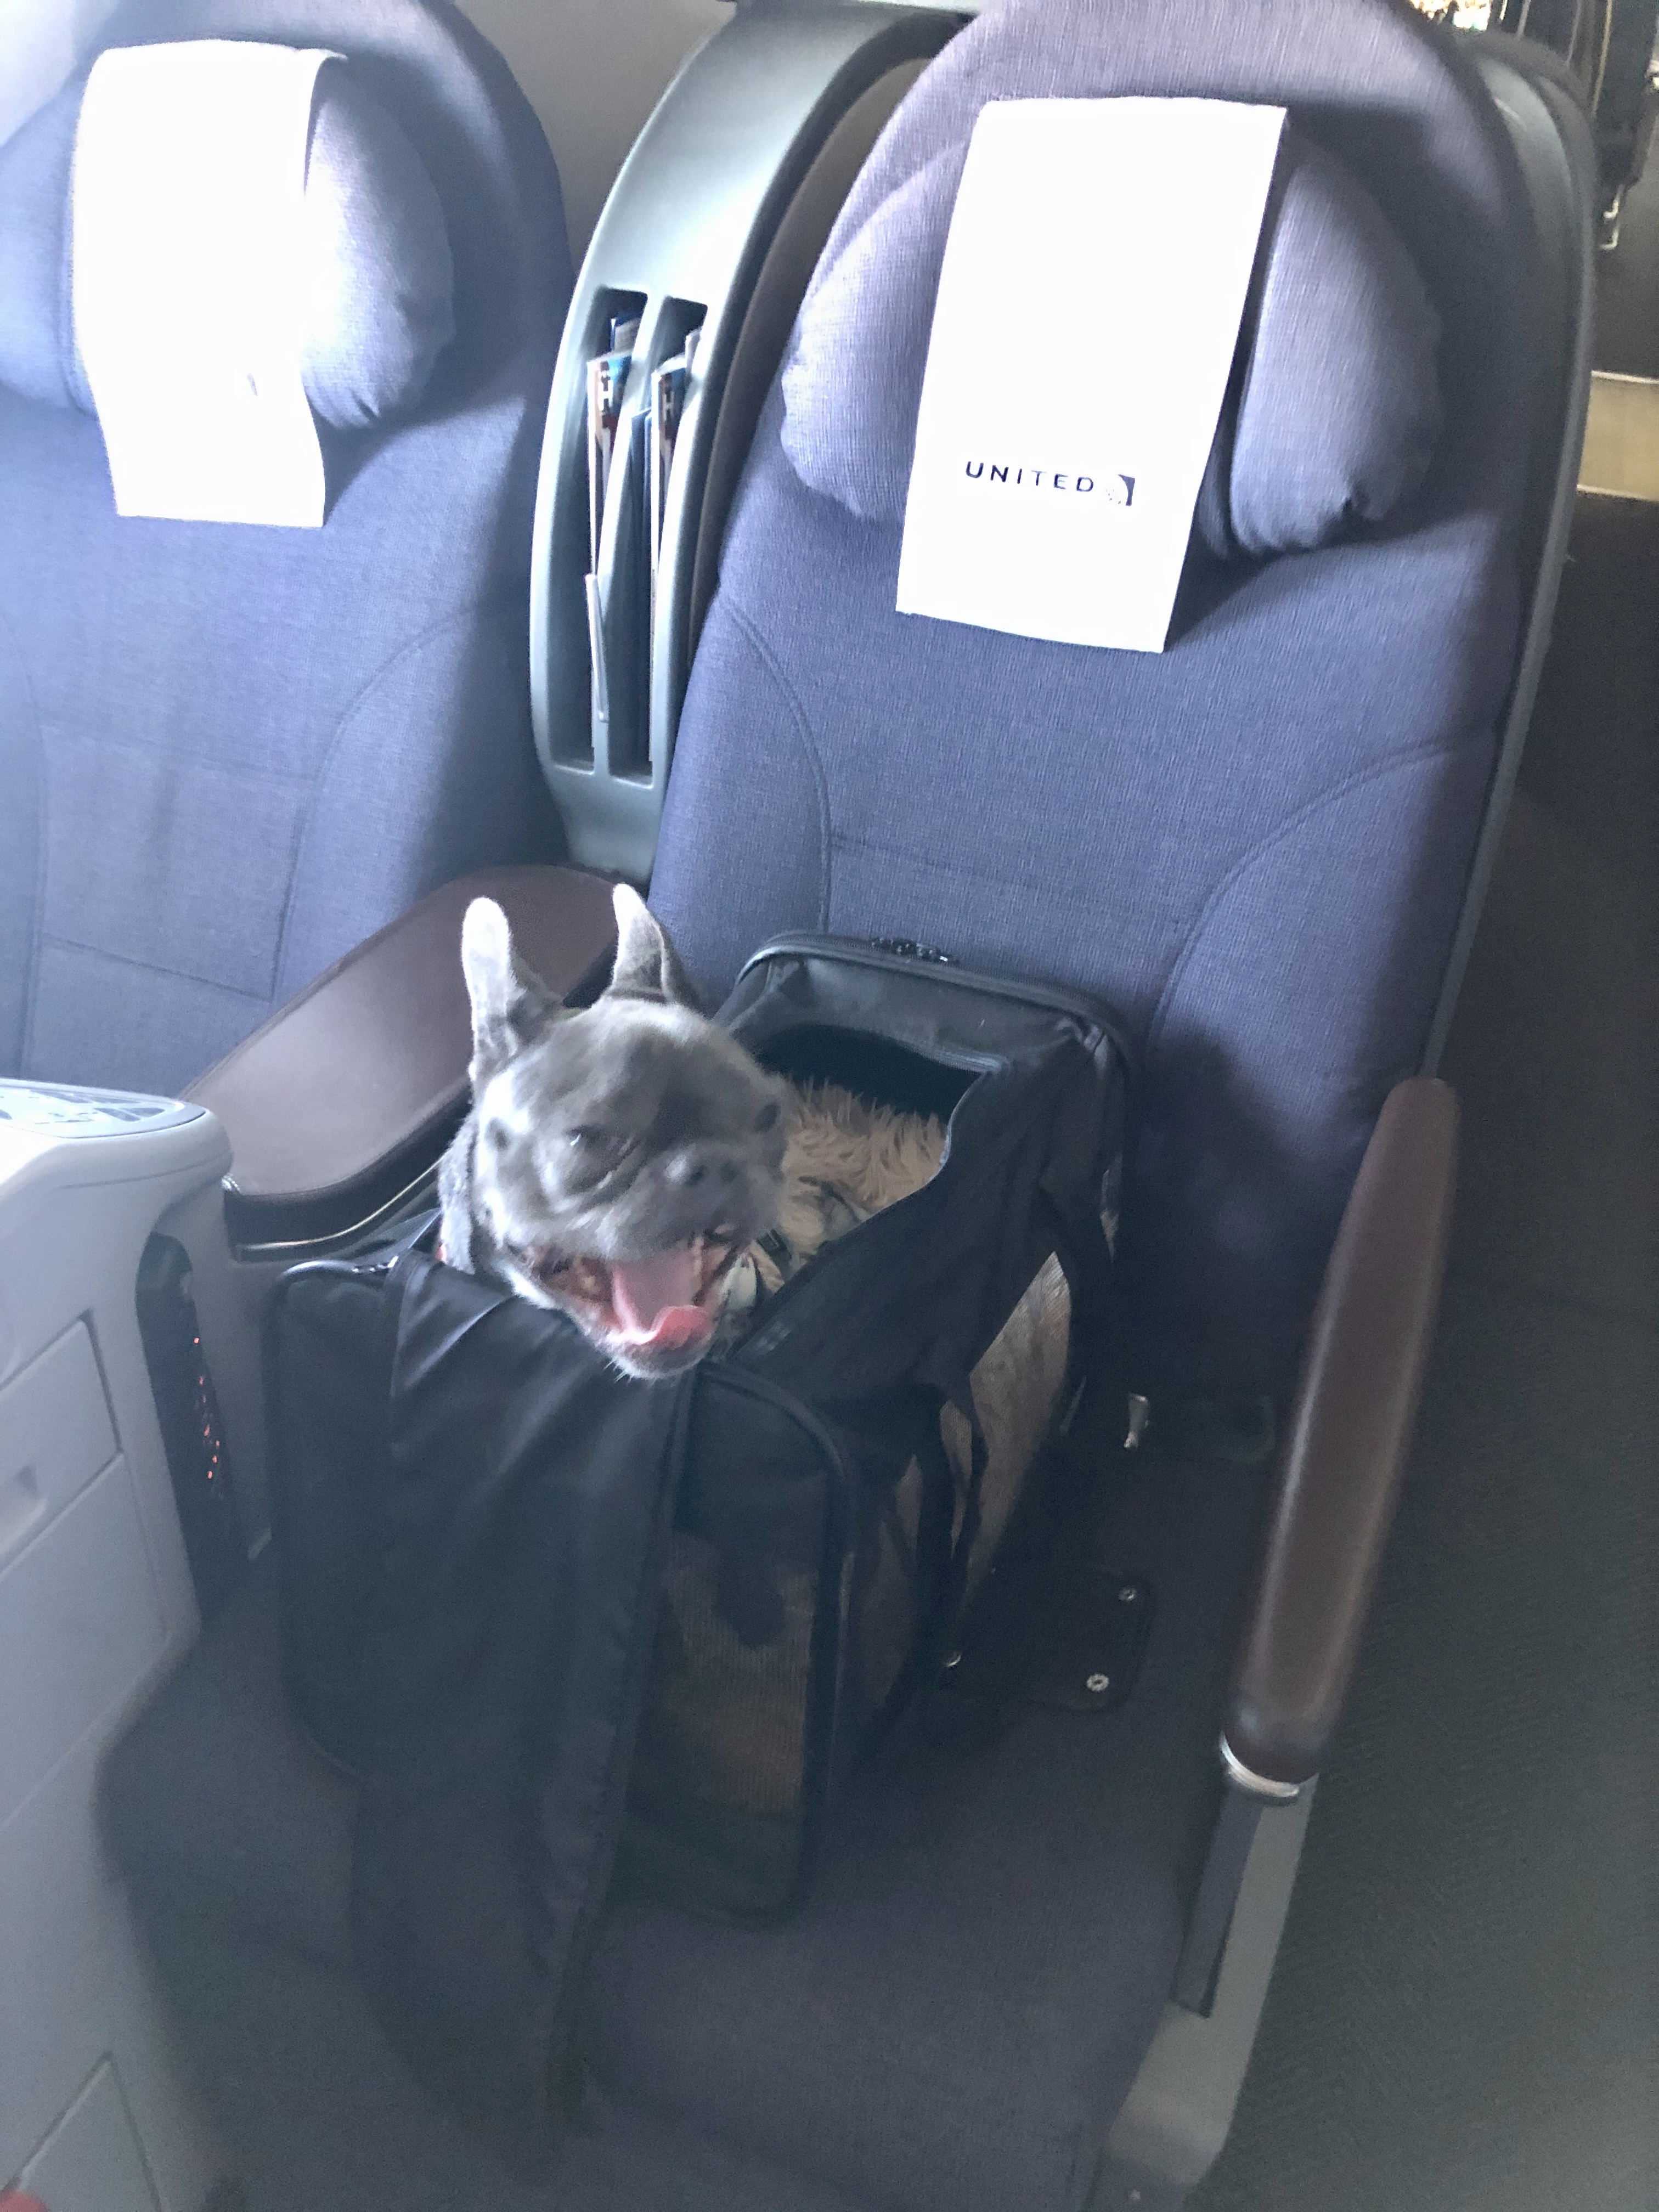lucy: (432, 874, 835, 1404)
